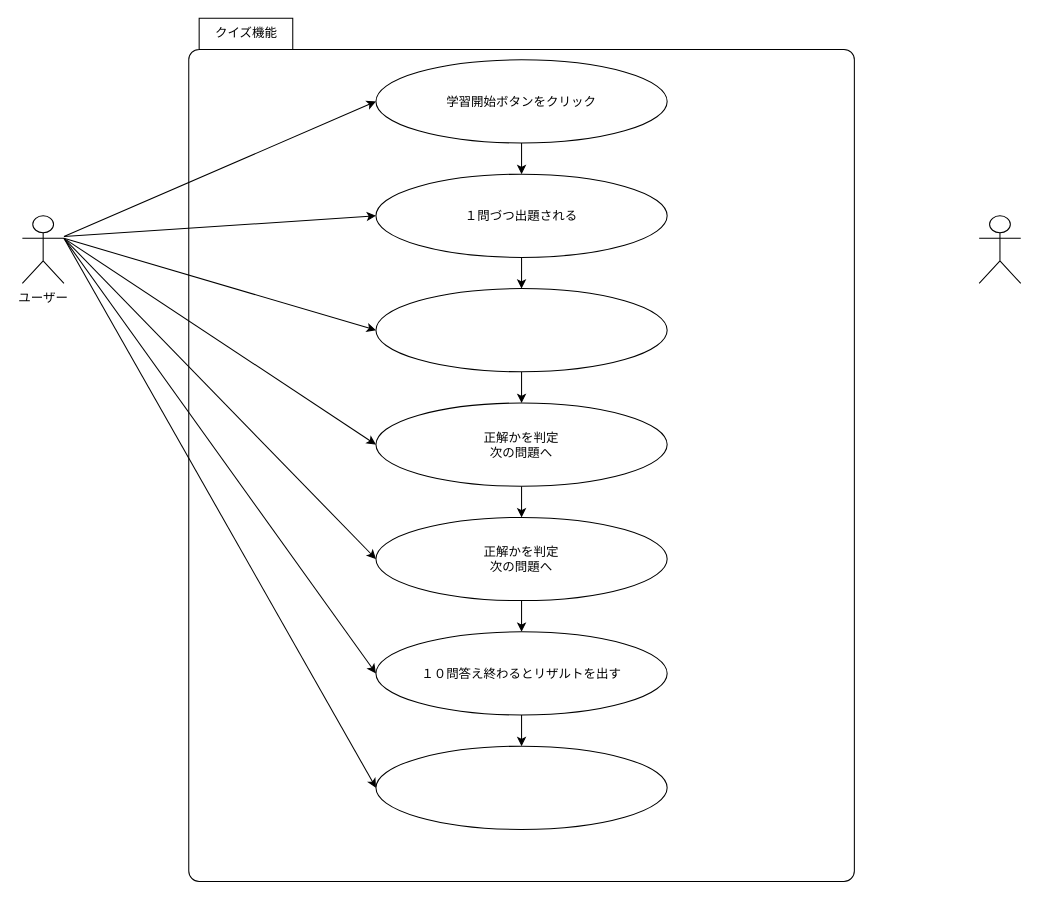
The diagram is 1042 pixels wide and 900 high, and some of its shapes have lost their labels. Here are the shapes that lost their labels. From the top down, the centre of each, then its label:
the point at 999,249: システム
the point at 521,330: 単語を入力する 時間制限あり
the point at 521,787: ログインしているなら記録を残す
